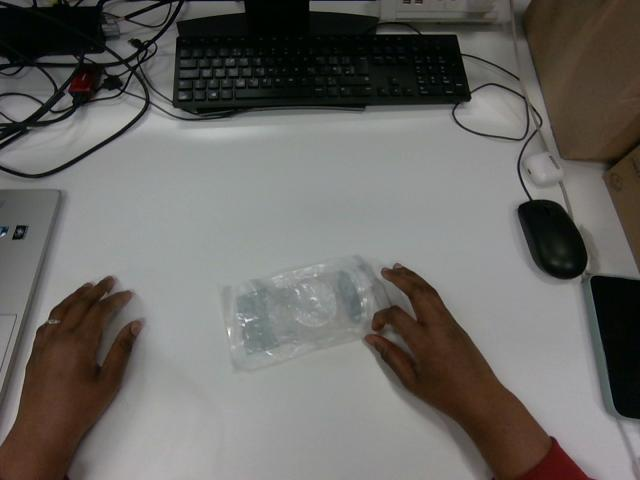gallipot: (223, 256, 388, 369)
